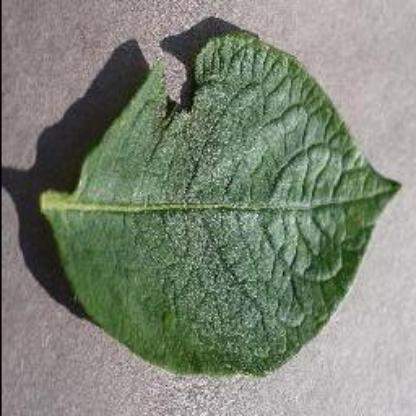Healthy-plant: (40, 29, 408, 386)
